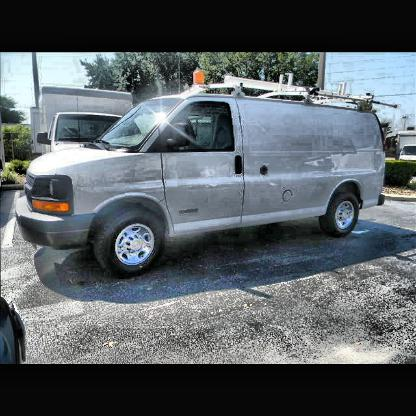Chevrolet Express Cargo Van 2007: (16, 92, 389, 279)
